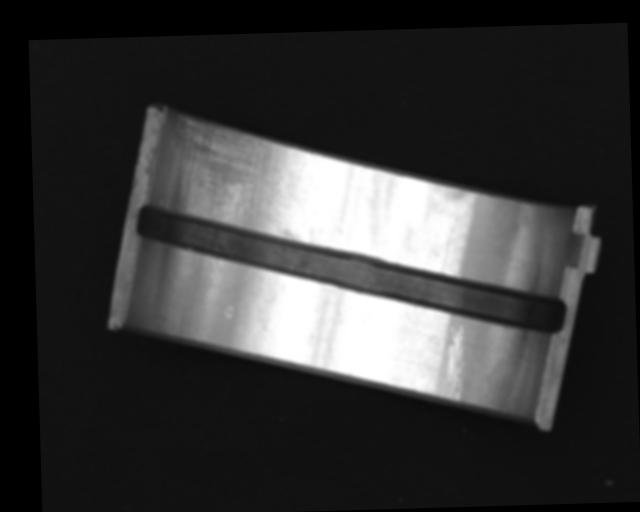bruise: (224, 305, 235, 319)
gap: (136, 192, 569, 345)
nick: (445, 322, 468, 404), (439, 228, 457, 276)
scratch: (164, 110, 304, 246)
